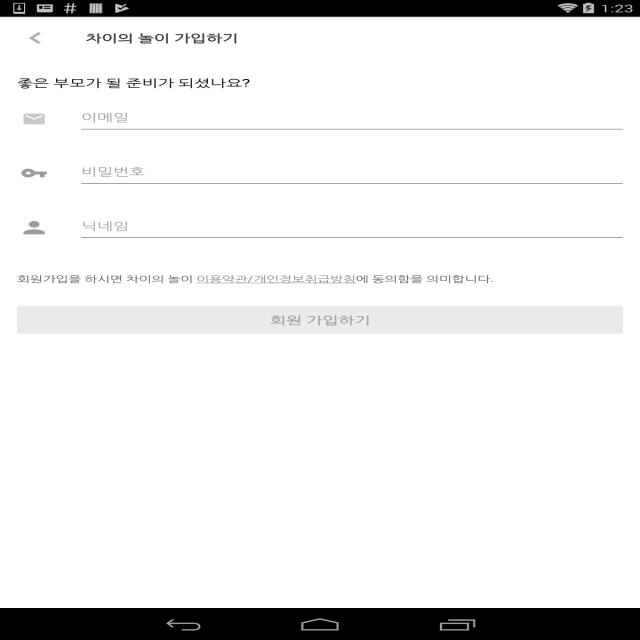Button: (17, 306, 623, 334)
EditText: (77, 103, 640, 135), (77, 157, 640, 189), (77, 212, 640, 243)
ImageButton: (7, 17, 66, 59)
ImageView: (17, 164, 51, 183), (17, 218, 51, 237), (17, 110, 51, 128)
TextView: (17, 273, 623, 290), (17, 75, 623, 90), (85, 31, 238, 45)
